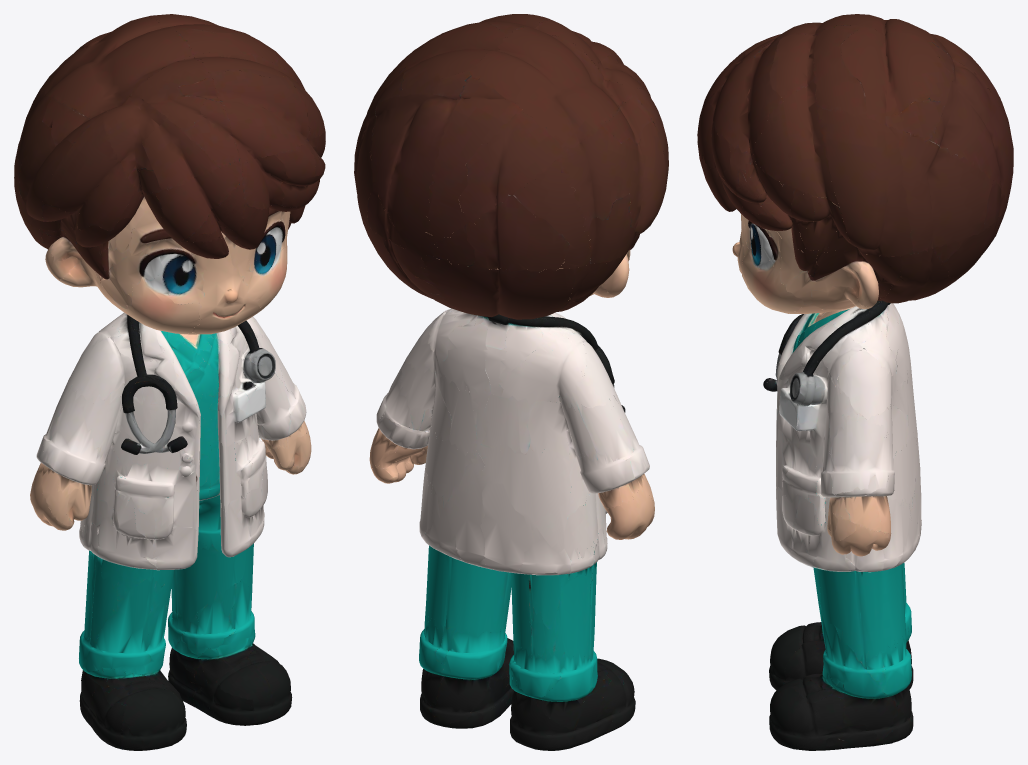
File: doctor.glb
The picture shows the model from 3 angles, left to right: view 1: azimuth 30°, elevation 25°; view 2: azimuth 150°, elevation 25°; view 3: azimuth 270°, elevation 25°; orthographic projection.
Parts seen in each view (by area): view 1: Mesh_0; view 2: Mesh_0; view 3: Mesh_0.
Part boxes in pixels (x1,y1,x2,y2): Mesh_0: [14, 14, 325, 750]; Mesh_0: [354, 14, 668, 750]; Mesh_0: [697, 14, 1013, 750].
Size of the model in its own units: 0.8298 by 1.9 by 0.7975.
Materials: 1 (1 with a texture image).
